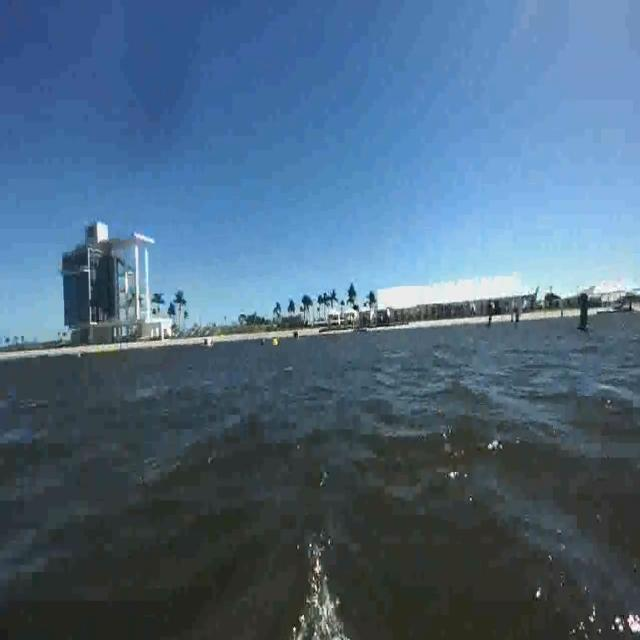green-column-buoy: (575, 290, 591, 334)
yellow-buoy: (273, 338, 280, 350)
